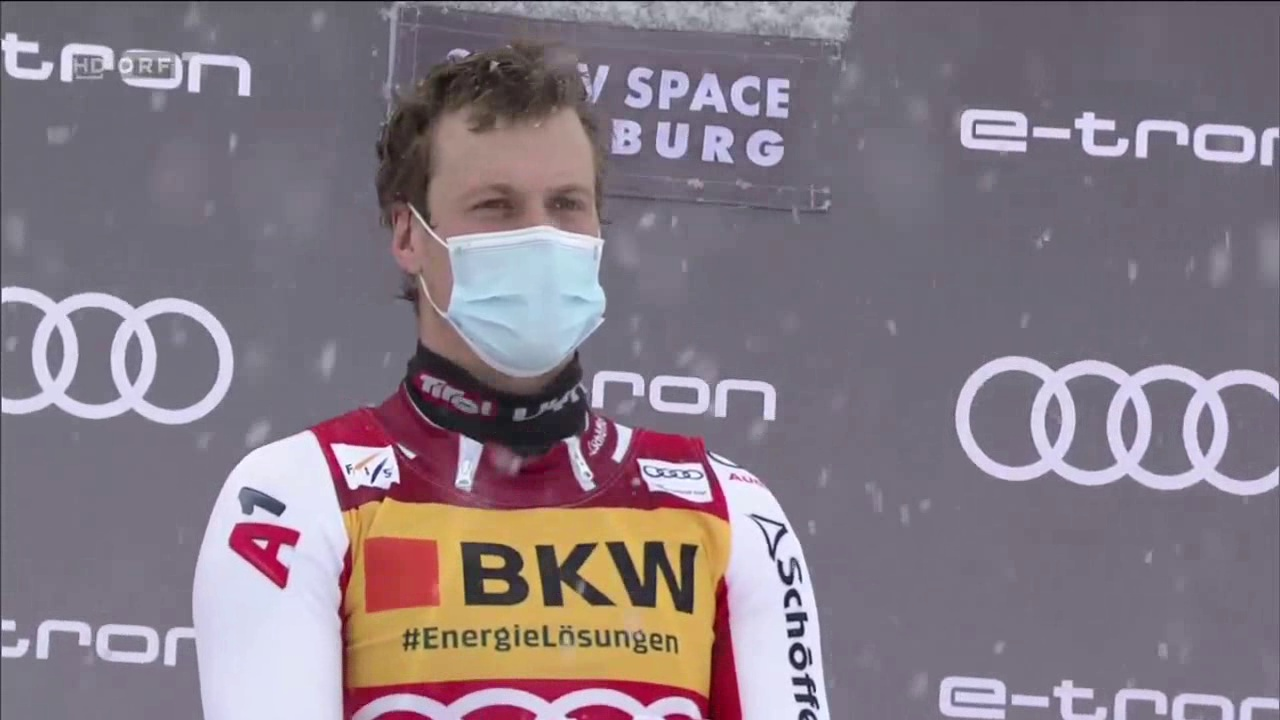a1: (230, 487, 304, 584)
audi: (912, 349, 1278, 477), (8, 278, 234, 434)
etron: (924, 89, 1279, 181), (589, 368, 786, 425), (6, 617, 200, 672)
